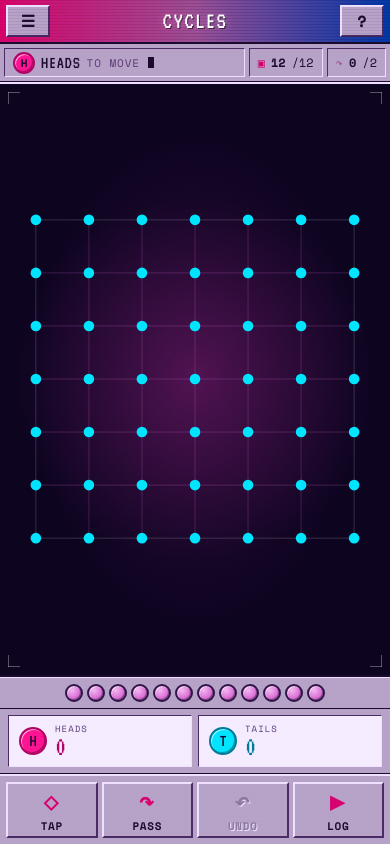
Test case: MobileApp › opens drawer when hamburger is clicked
The image size is (390, 844).
What coordinates should you click on to do the following:
click the button named "Open menu"
I would click on:
 (28, 21)
Its box is [6,5,50,37].
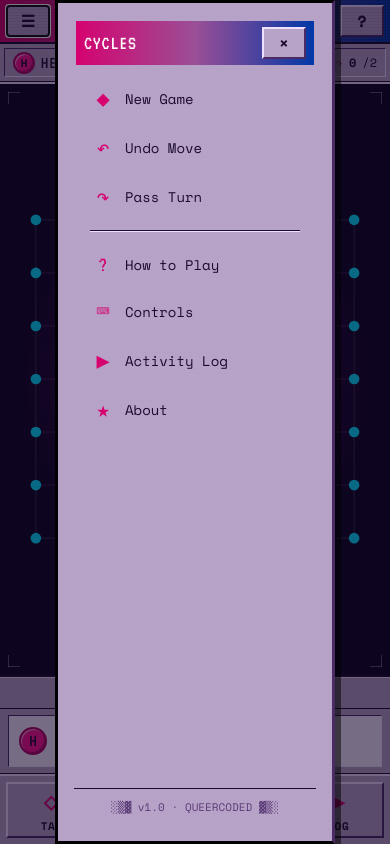
Expected: the button "◆ New Game" is shown, [78,75,312,122]
Expected: the button "↶ Undo Move" is shown, [78,124,312,171]
Expected: the button "↷ Pass Turn" is shown, [78,173,312,220]
